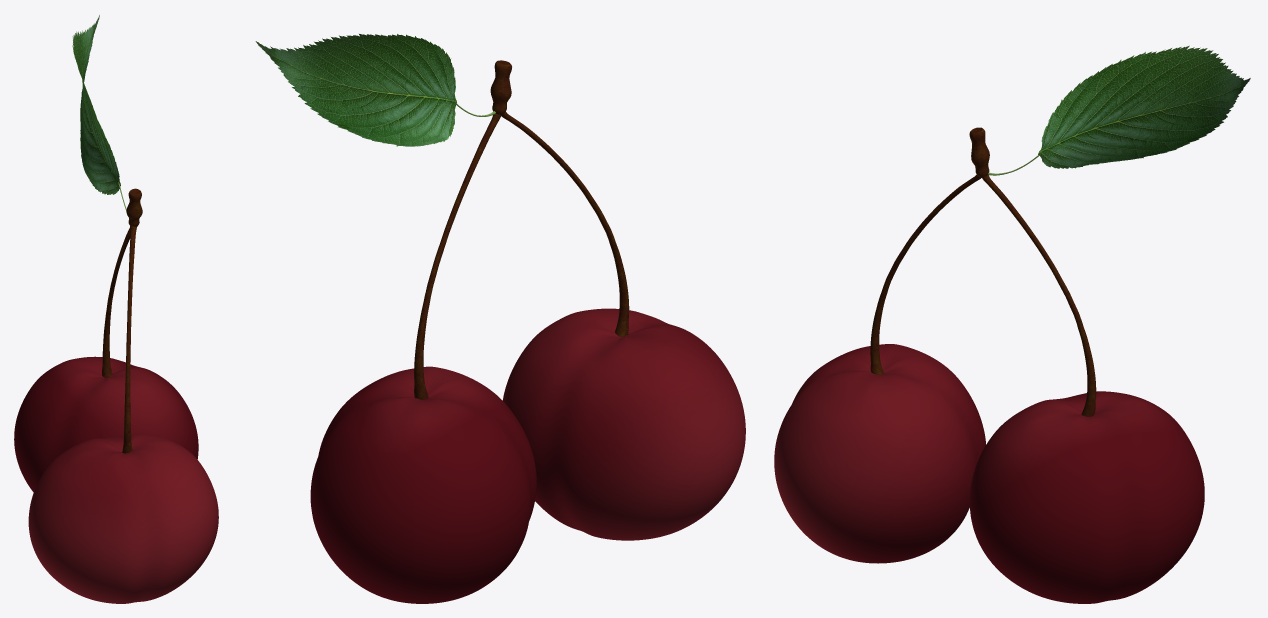
File: Gilos.fbx
3 views of the same model, side by side, from view 1: azimuth 30°, elevation 25°; view 2: azimuth 150°, elevation 25°; view 3: azimuth 270°, elevation 25° (orthographic). The views are drawn at different scales.
Parts seen in each view (by area): view 1: AnyConv.com__Vase charry N160419.003, AnyConv.com__Vase charry N160419.002, AnyConv.com__Vase charry N160419.001; view 2: AnyConv.com__Vase charry N160419.003, AnyConv.com__Vase charry N160419.002, AnyConv.com__Vase charry N160419.001; view 3: AnyConv.com__Vase charry N160419.003, AnyConv.com__Vase charry N160419.002, AnyConv.com__Vase charry N160419.001.
Part boxes in pixels (box(x1,y1,x2,y2)): AnyConv.com__Vase charry N160419.003: box(14, 356, 218, 603); AnyConv.com__Vase charry N160419.002: box(72, 15, 120, 194); AnyConv.com__Vase charry N160419.001: box(102, 188, 142, 453); AnyConv.com__Vase charry N160419.003: box(310, 308, 745, 603); AnyConv.com__Vase charry N160419.002: box(255, 34, 456, 146); AnyConv.com__Vase charry N160419.001: box(414, 60, 629, 399); AnyConv.com__Vase charry N160419.003: box(774, 344, 1204, 603); AnyConv.com__Vase charry N160419.002: box(1038, 45, 1250, 168); AnyConv.com__Vase charry N160419.001: box(870, 127, 1096, 416).
Size of the model in its own units: 6003 by 11778 by 8964.
Materials: 4 (4 with a texture image).
